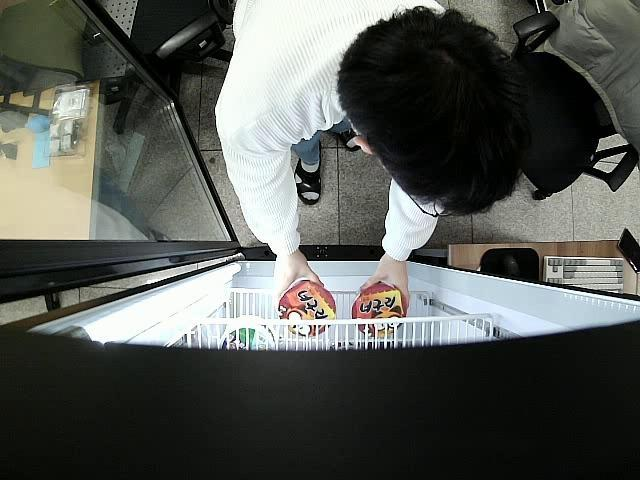05_nuguri_L: (275, 279, 336, 338), (352, 283, 406, 337)
